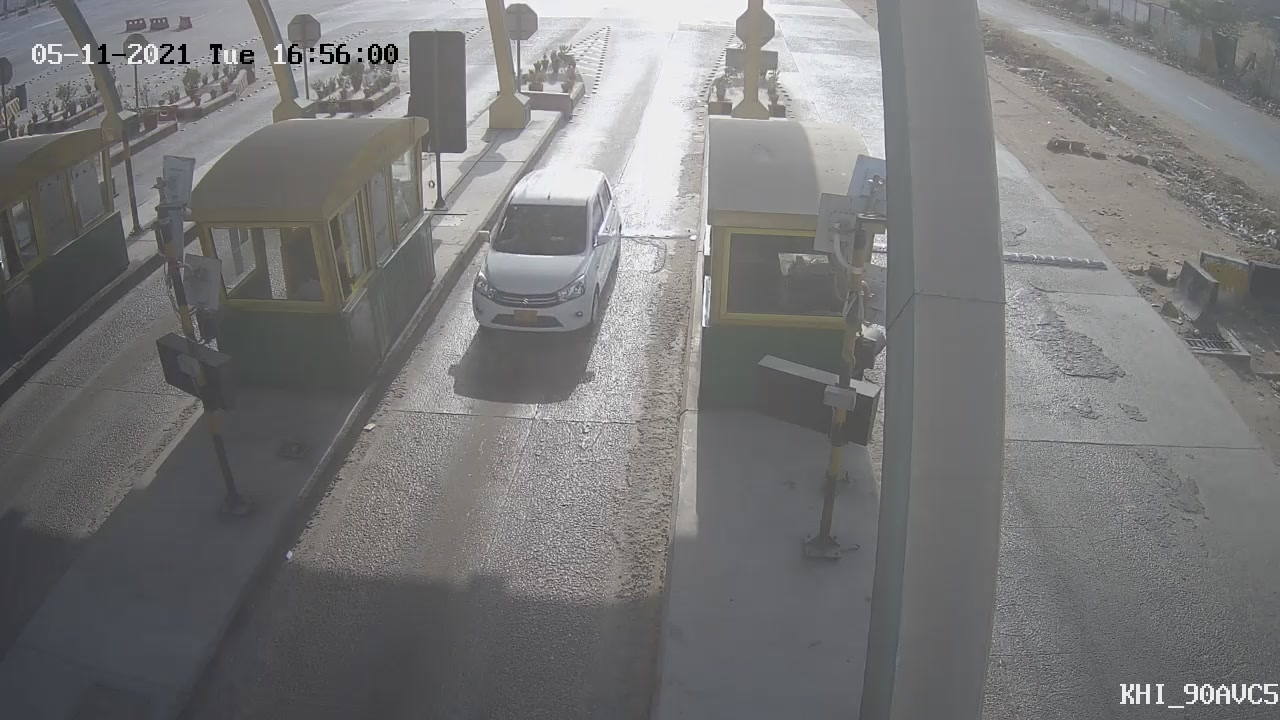F1: (444, 148, 643, 362)
